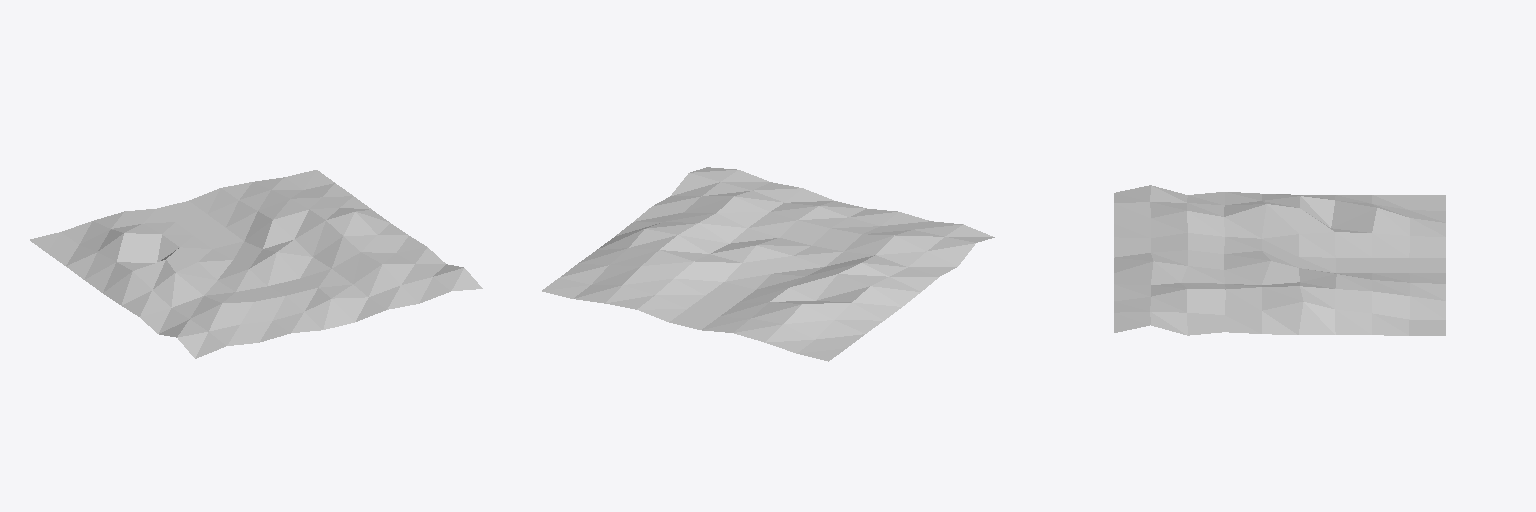
Rendered from terrain.obj.
3 renders of one model, left to right at view 1: azimuth 30°, elevation 25°; view 2: azimuth 150°, elevation 25°; view 3: azimuth 270°, elevation 25°, orthographic.
Parts seen in each view (by area): view 1: Grid; view 2: Grid; view 3: Grid.
Part boxes in pixels (bbox=[...]): Grid: bbox=[30, 170, 482, 358]; Grid: bbox=[542, 167, 994, 361]; Grid: bbox=[1114, 185, 1445, 335].
Bounding box in the file's own units: 2 × 0.1265 × 2.